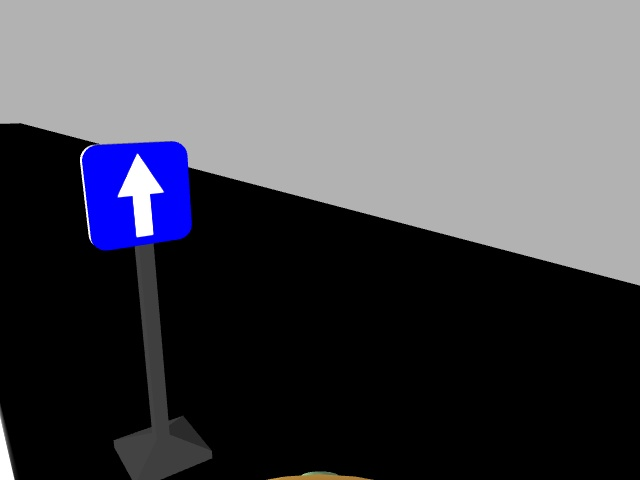OneWay: (79, 140, 193, 251)
